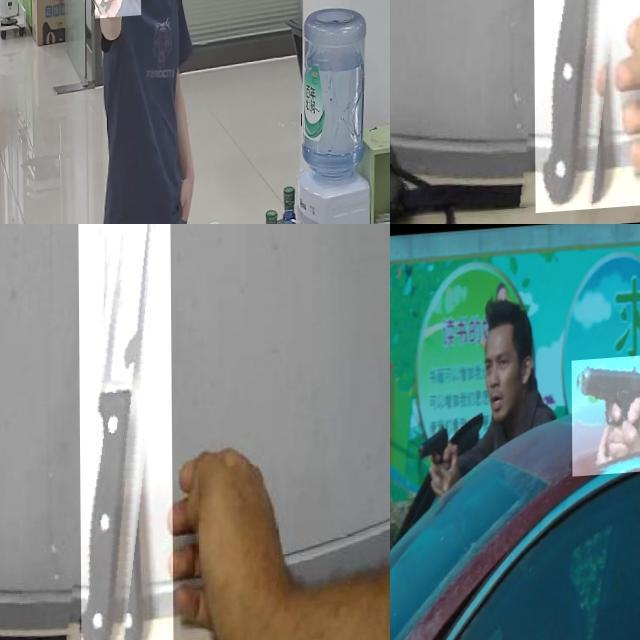-: (77, 224, 172, 640), (531, 0, 640, 224)
gun-knife-thesis - v11 Yolov5 augmented: (571, 359, 640, 480), (416, 424, 457, 496), (94, 0, 141, 58)
